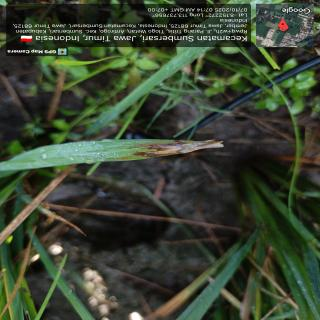Blast: (136, 141, 188, 158)
